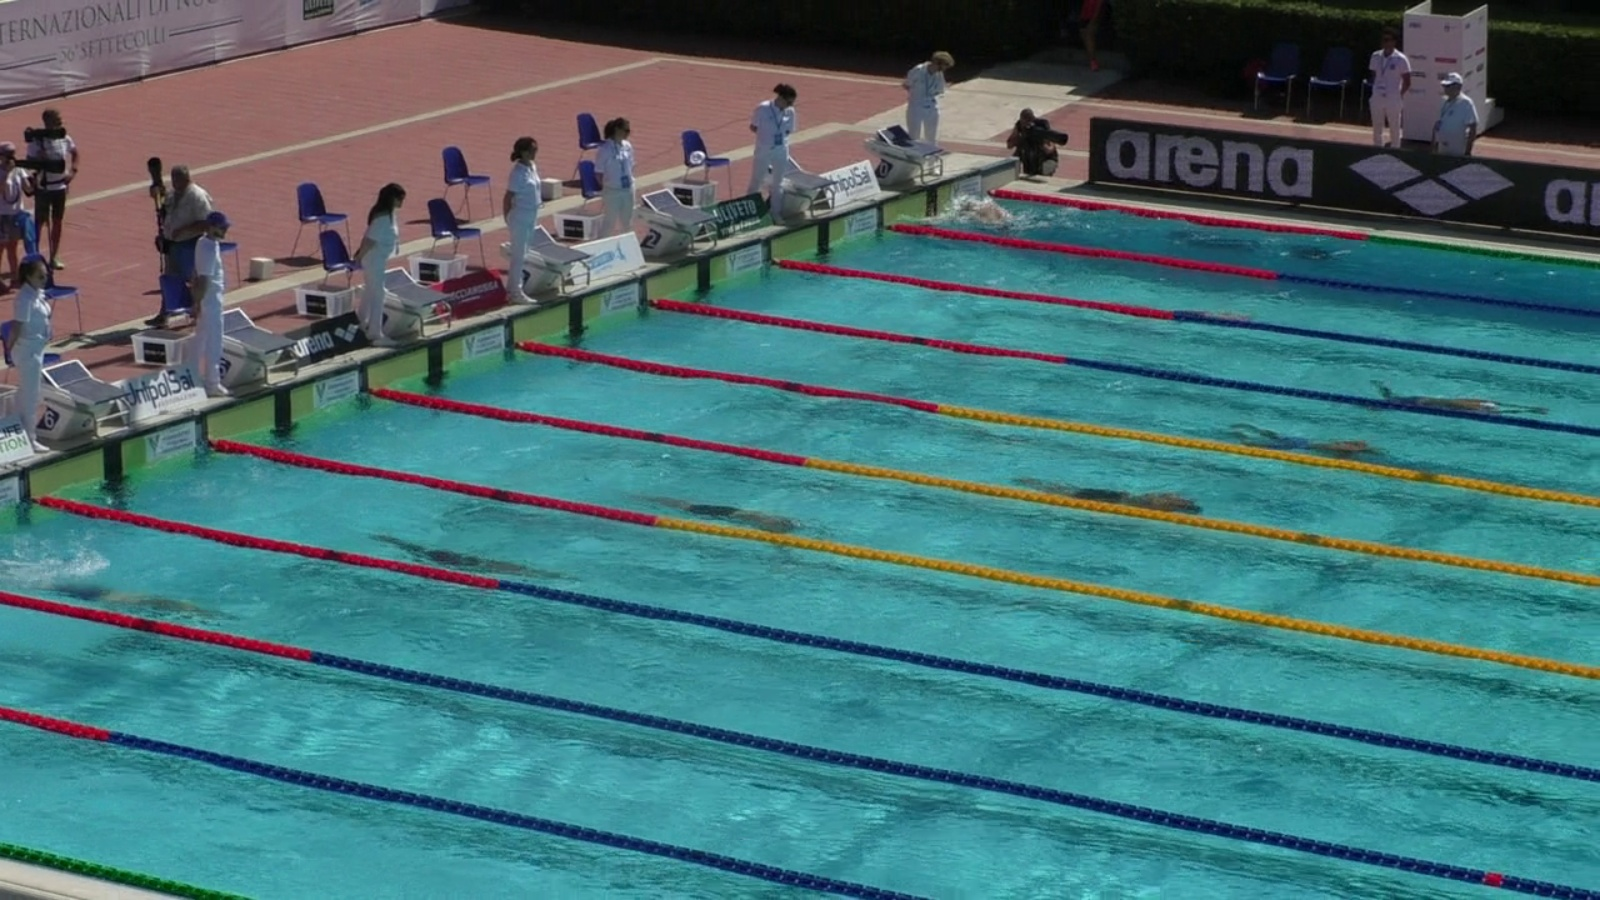swimmer: (1162, 308, 1253, 325)
swimmerwdd: (362, 529, 571, 588), (37, 577, 238, 631), (631, 491, 815, 540), (1373, 375, 1555, 423), (1015, 475, 1205, 516), (1223, 423, 1395, 464), (946, 195, 1070, 237)
